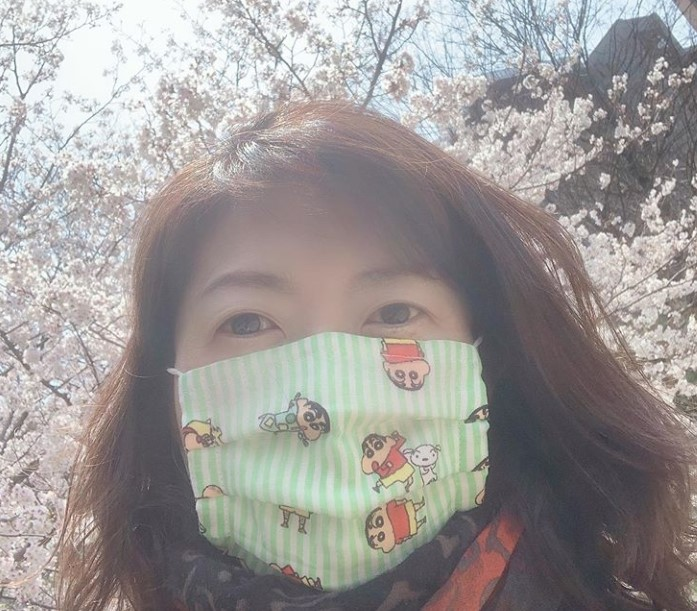face_with_mask: (163, 155, 499, 590)
